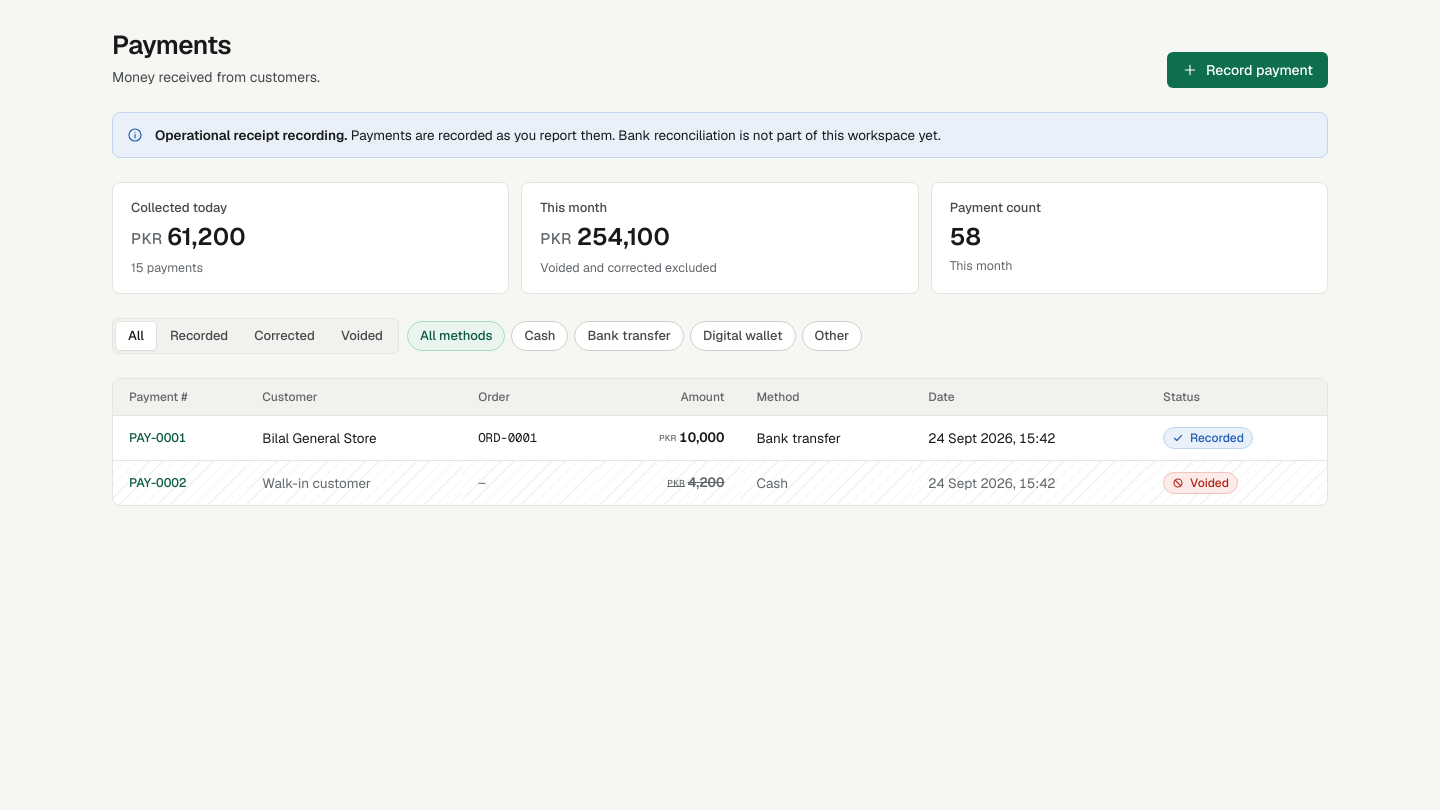
Test case: Payments list (R7) › corrects a payment and opens the replacement
This screenshot has width=1440, height=810.
Click the button "PAY-0001" at (158, 438), box [129, 428, 186, 448]
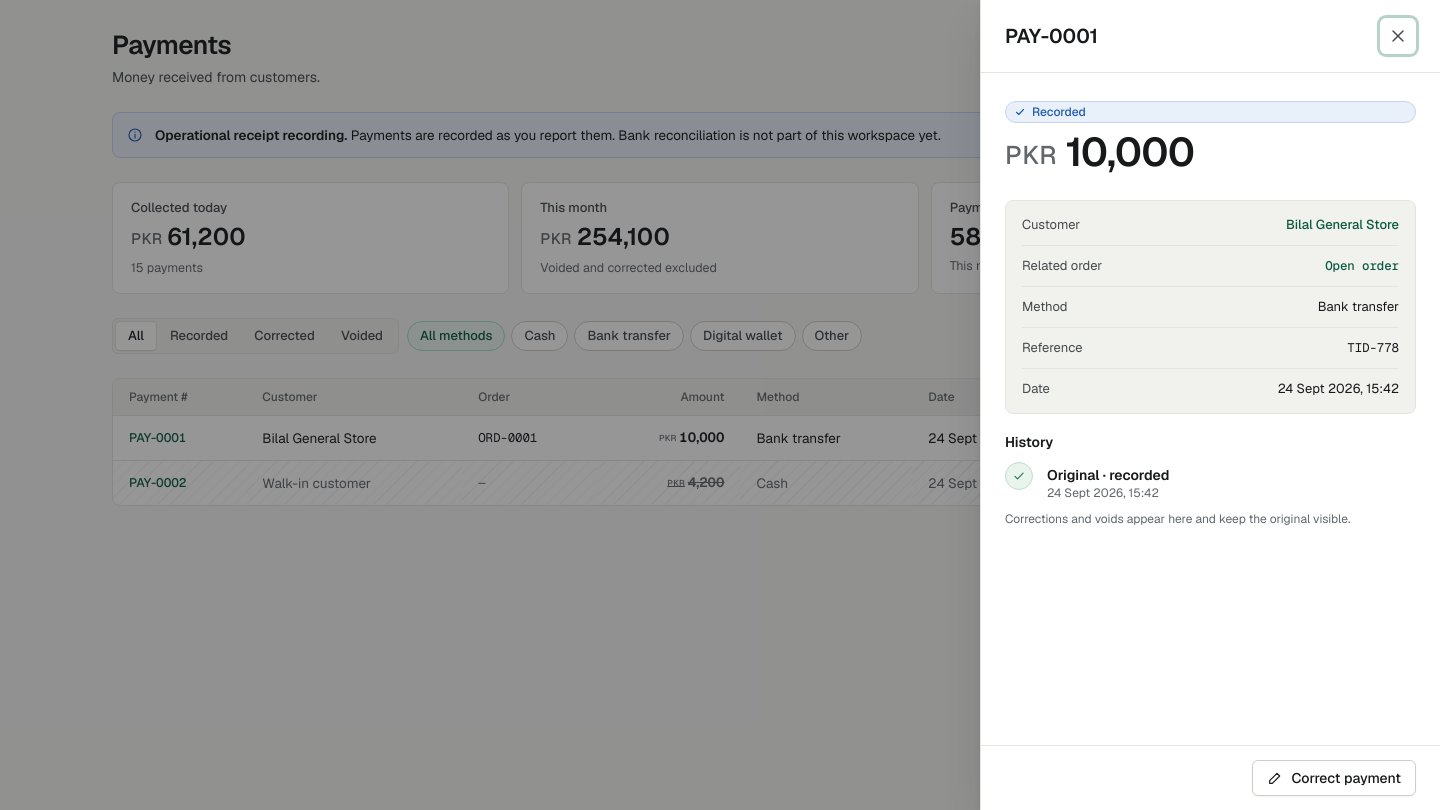
Click the button "Correct payment" at (1334, 778), box [1252, 760, 1416, 796]
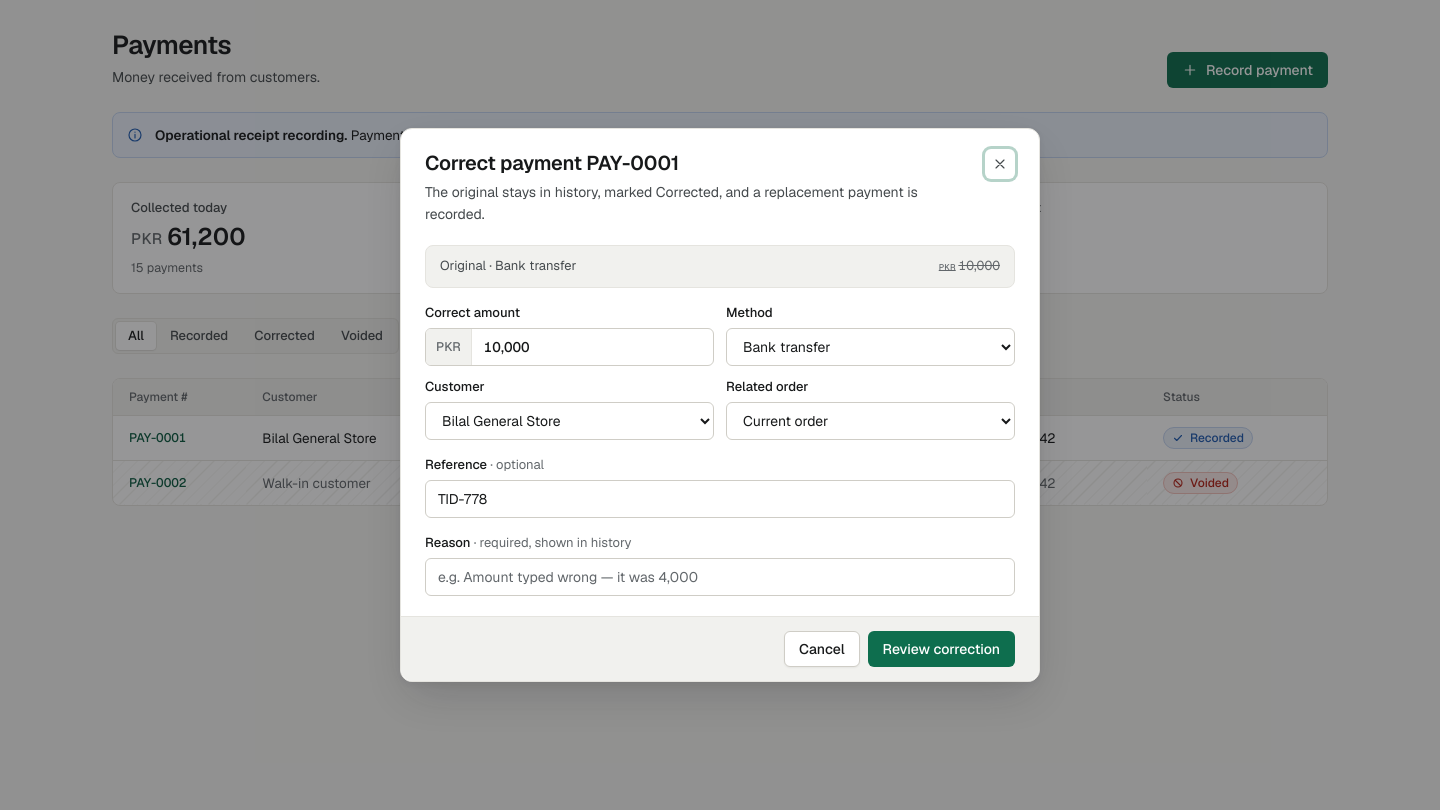
Result: the field labelled "Correct amount" holds "10,000"
Replace the text in the field labelled "Correct amount" with "4000" at (592, 347), box [472, 329, 713, 365]
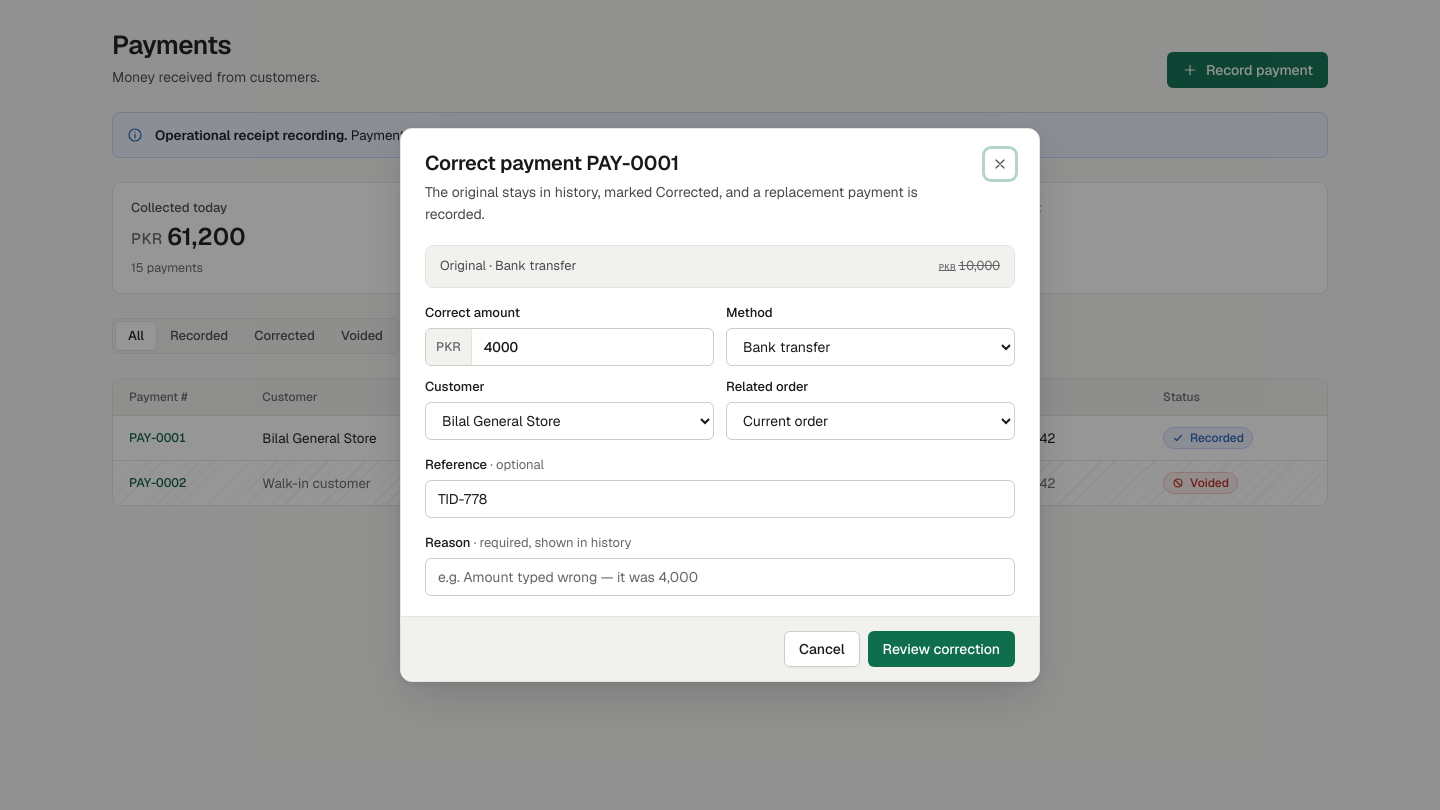
Type "Amount typed wrong" into the field labelled "Reason · required, shown in history" at (720, 577), box [425, 558, 1015, 596]
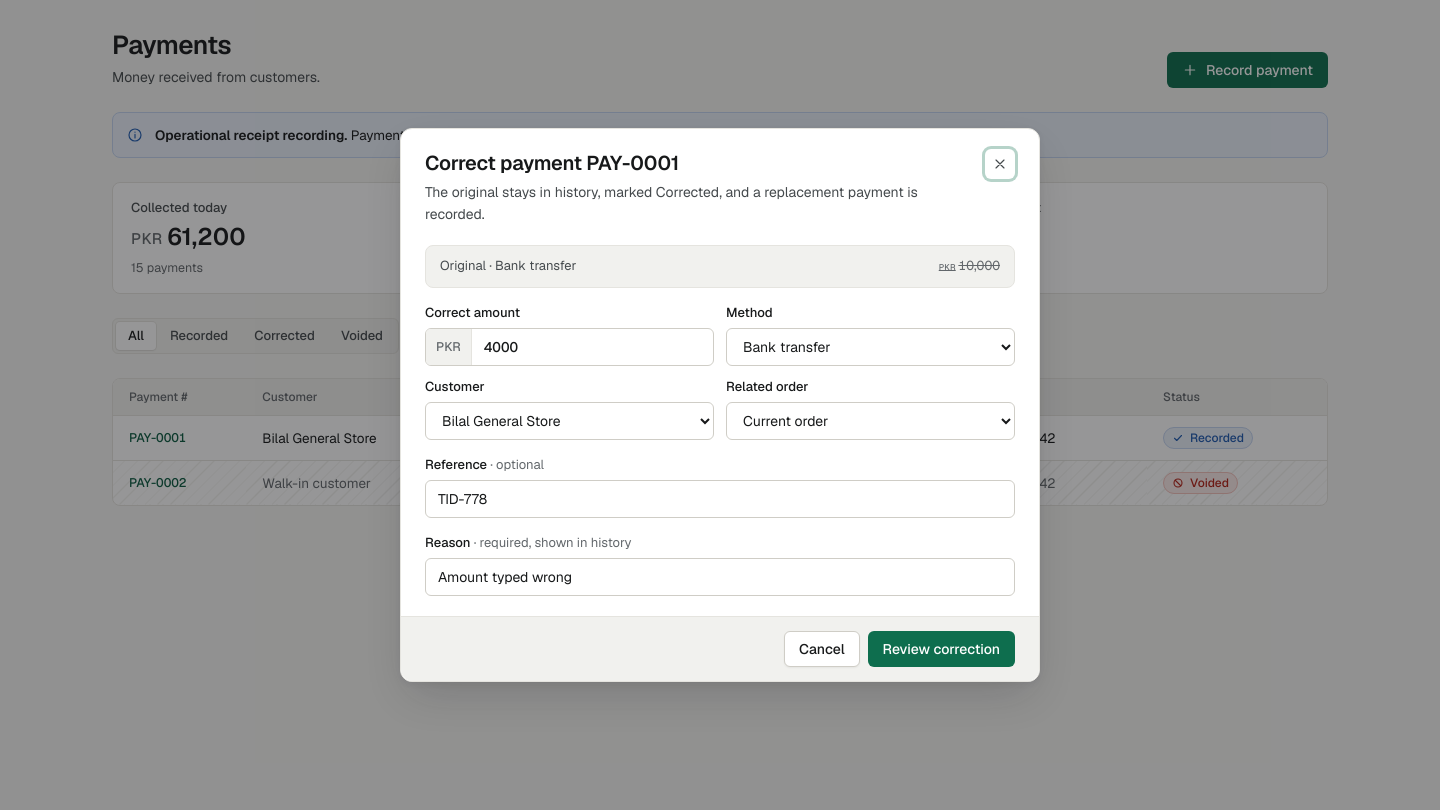
Click the button "Review correction" at (941, 649), box [868, 631, 1015, 667]
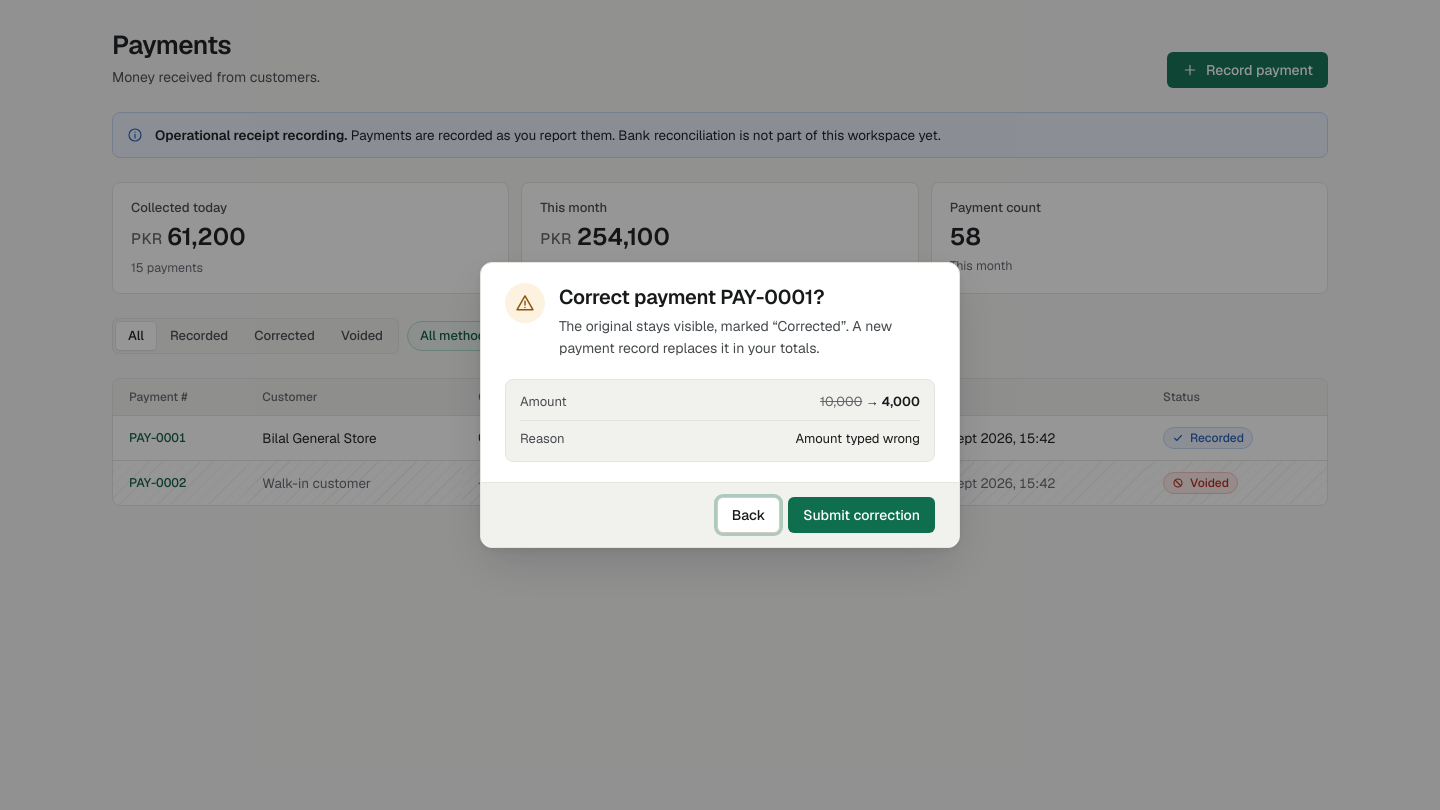
Click the button "Submit correction" at (862, 515), box [788, 497, 935, 533]
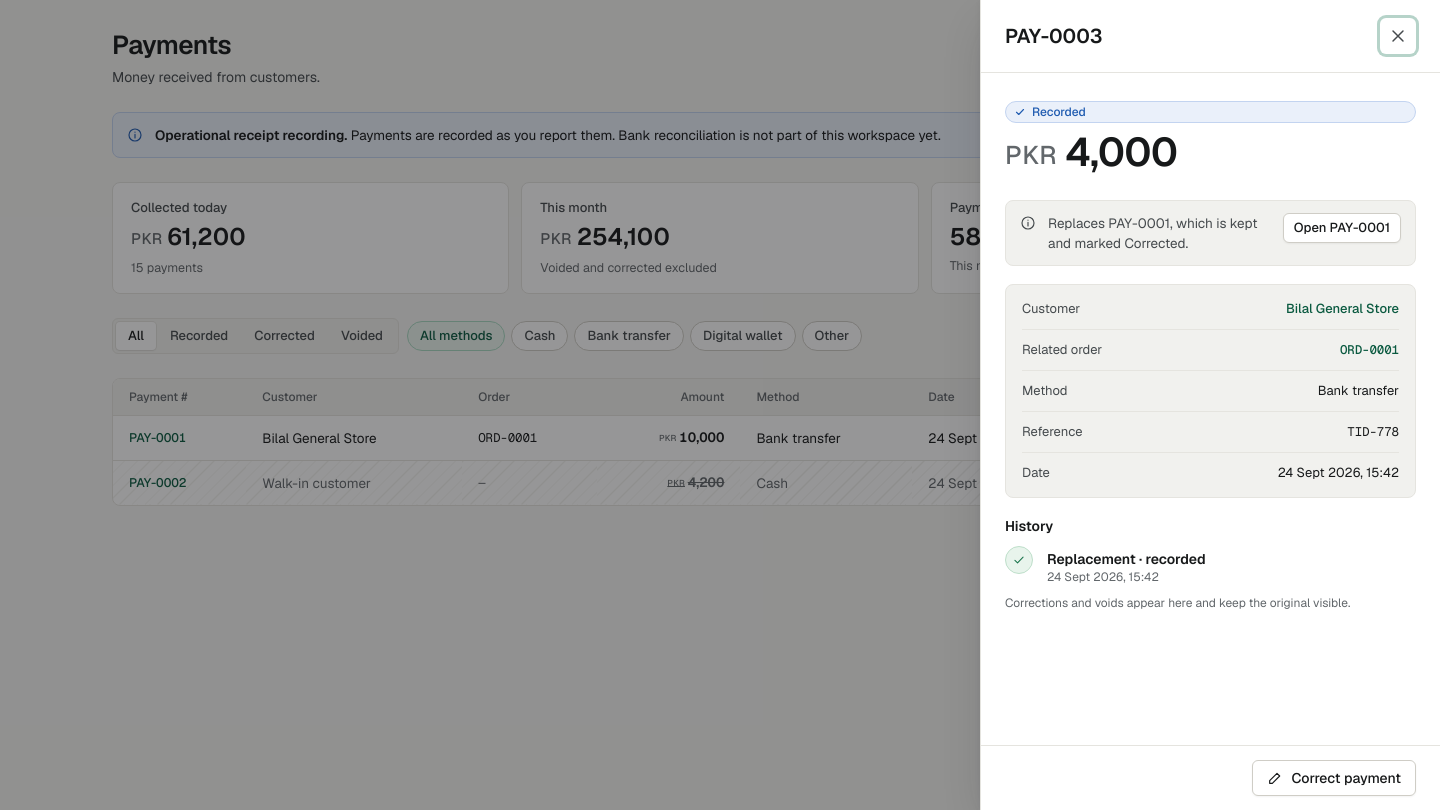
Result: the dialog "PAY-0003" is shown at [980, 0, 1439, 809]
